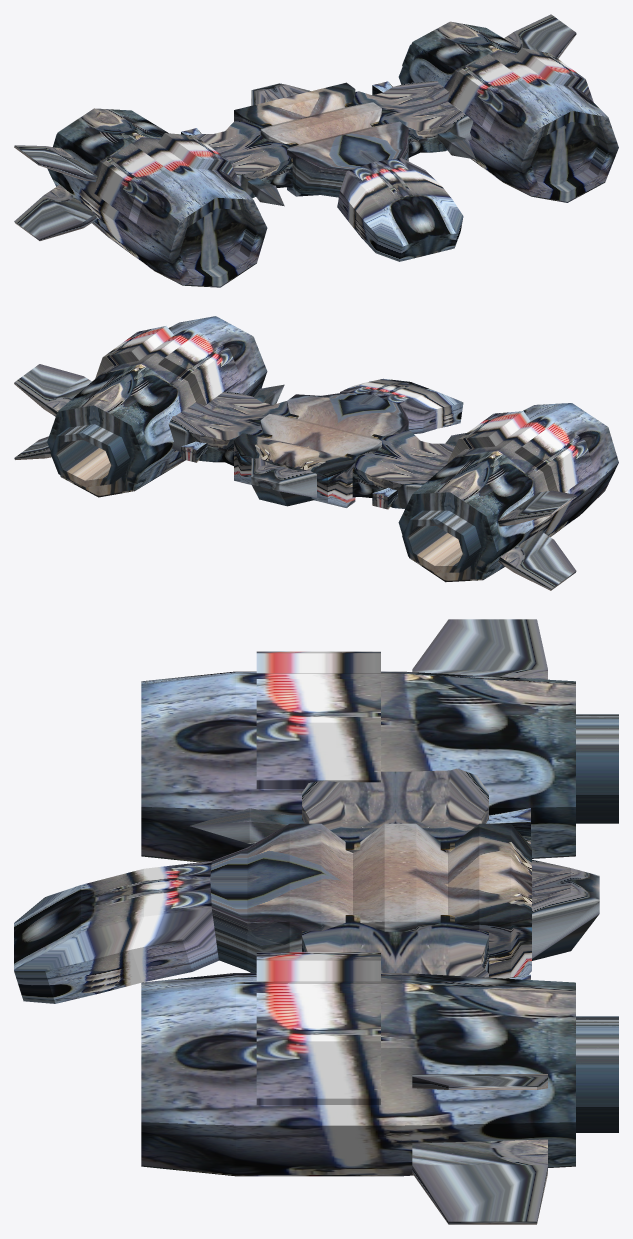
The model's file is m2-ship3.obj.
3 renders of one model, top to bottom at view 1: azimuth 30°, elevation 25°; view 2: azimuth 150°, elevation 25°; view 3: azimuth 270°, elevation 25°, orthographic. The views are drawn at different scales.
Parts seen in each view (by area): view 1: M2_Ship_3_Cube.068; view 2: M2_Ship_3_Cube.068; view 3: M2_Ship_3_Cube.068.
Boxes of the visible parts, box(x1,y1,x2,y2) form: M2_Ship_3_Cube.068: box(14, 14, 618, 287); M2_Ship_3_Cube.068: box(14, 316, 618, 590); M2_Ship_3_Cube.068: box(14, 619, 618, 1224).
Bounding box in the file's own units: 52.18 × 10.12 × 28.52.
